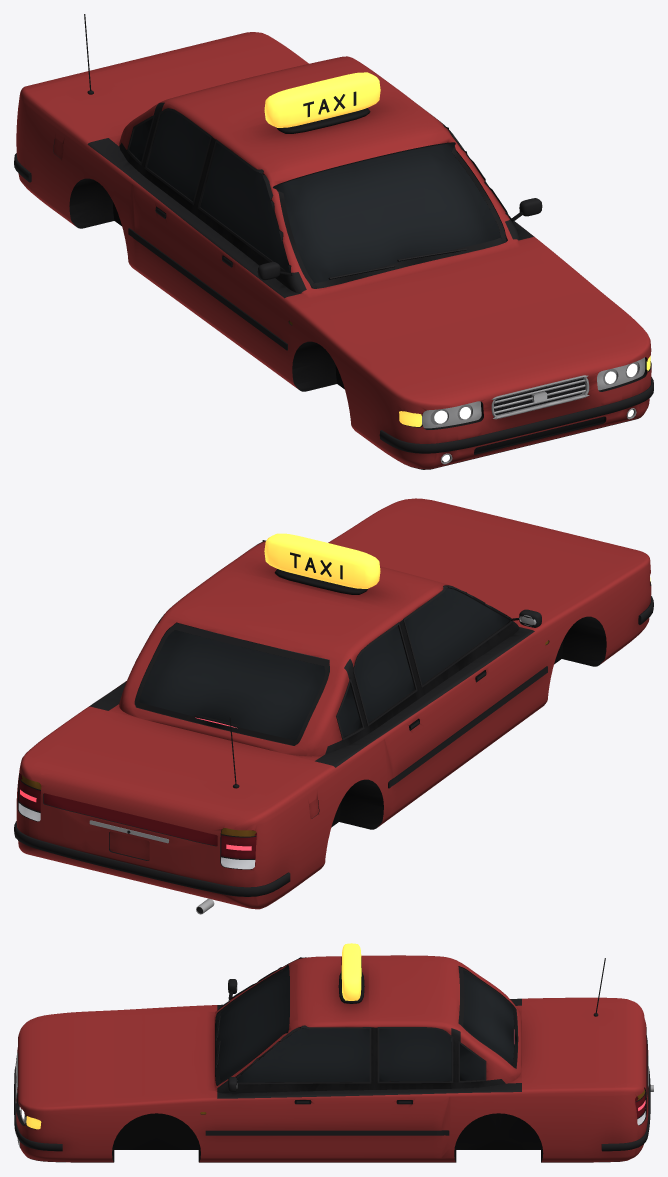
The model's file is cabbie.m.glb.
The picture shows the model from 3 angles, top to bottom: view 1: azimuth 30°, elevation 25°; view 2: azimuth 150°, elevation 25°; view 3: azimuth 270°, elevation 25°; orthographic projection. The views are drawn at different scales.
Visible parts, largest first — view 1: paint_lodm, window_lodm, trim_lodm, amber_lodm, chrome_lodm, grille_lodm; view 2: paint_lodm, window_lodm, trim_lodm, amber_lodm, tail_lodm, chrome_lodm; view 3: paint_lodm, window_lodm, trim_lodm, amber_lodm.
Boxes of the visible parts, x1,y1,x2,y2 form: paint_lodm: (16, 32, 651, 469); window_lodm: (129, 110, 507, 288); trim_lodm: (14, 14, 653, 469); amber_lodm: (264, 72, 650, 426); chrome_lodm: (422, 207, 645, 464); grille_lodm: (474, 378, 604, 453); paint_lodm: (16, 498, 651, 909); window_lodm: (139, 587, 509, 740); trim_lodm: (14, 540, 653, 913); amber_lodm: (264, 533, 650, 588); tail_lodm: (18, 774, 256, 865); chrome_lodm: (89, 615, 536, 914); paint_lodm: (16, 955, 648, 1162); window_lodm: (217, 965, 514, 1082); trim_lodm: (14, 957, 650, 1162); amber_lodm: (26, 943, 361, 1129).
Size of what is drawn, in the model's own units: 2.13 by 1.5 by 5.46.
